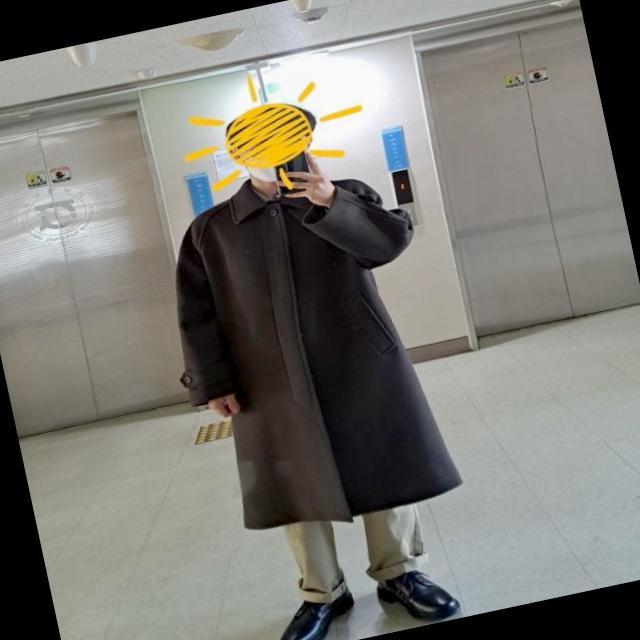coat: (146, 145, 476, 551)
cottonpants: (280, 499, 432, 606)
